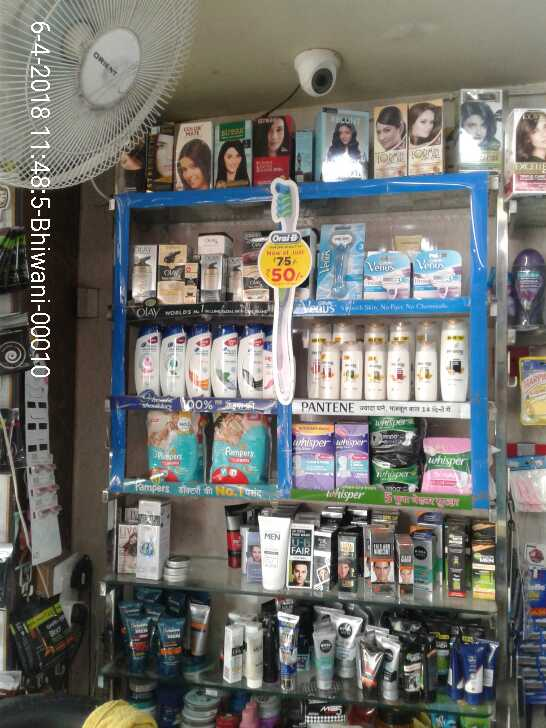gillete: (120, 585, 187, 614), (155, 618, 184, 677), (126, 617, 151, 671)
venus: (316, 223, 365, 302), (414, 251, 465, 300), (366, 252, 411, 300)
